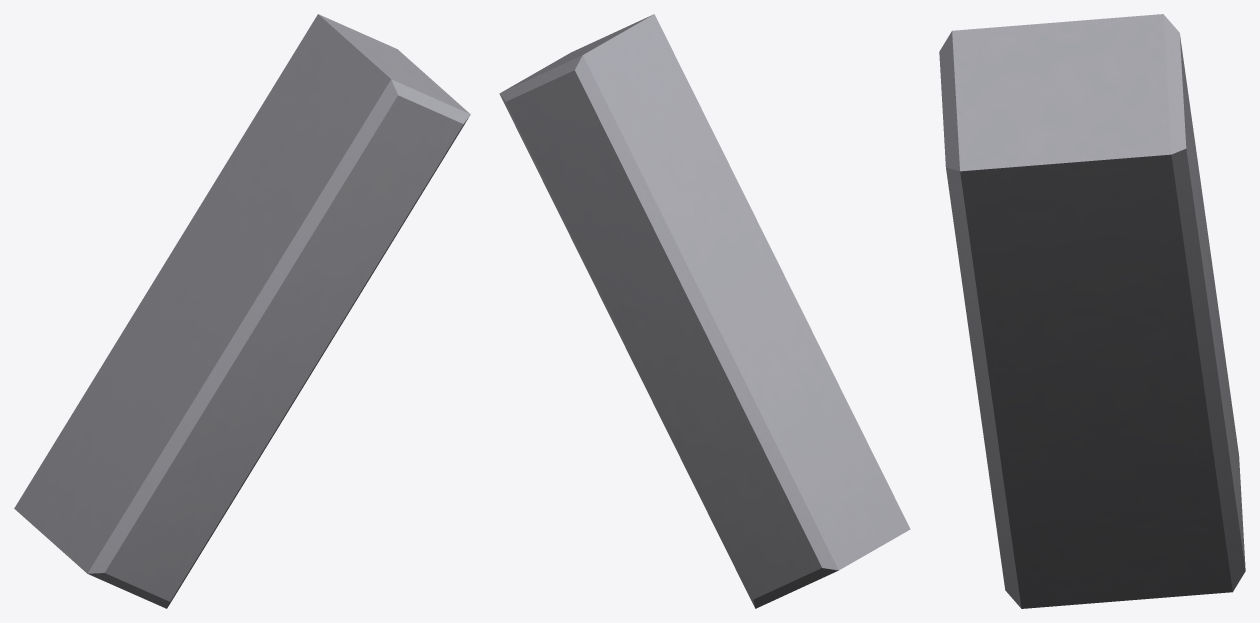
The model's file is Division.FBX.
3 views of the same model, side by side, from view 1: azimuth 30°, elevation 25°; view 2: azimuth 150°, elevation 25°; view 3: azimuth 270°, elevation 25° (orthographic). The views are drawn at different scales.
Parts seen in each view (by area): view 1: division; view 2: division; view 3: division.
Boxes of the visible parts, x1,y1,x2,y2 form: division: (14, 14, 470, 608); division: (499, 14, 910, 608); division: (939, 14, 1245, 608).
Bounding box in the file's own units: 83.12 × 111 × 41.89.
